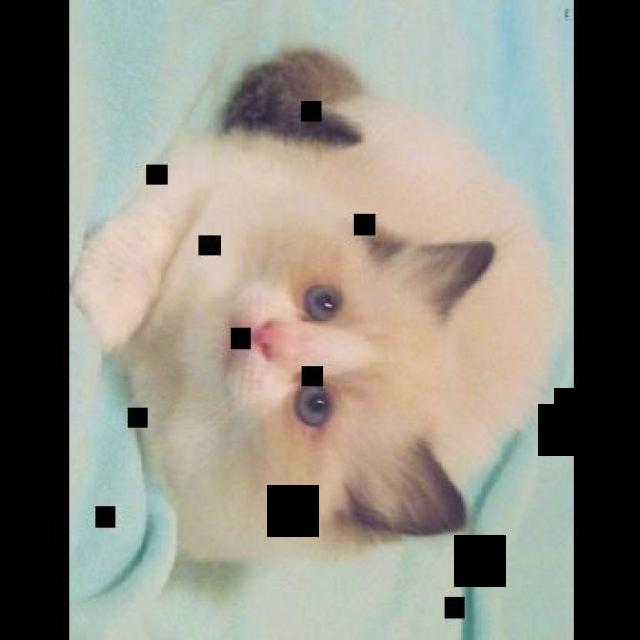unauthorized: (70, 46, 556, 563)
